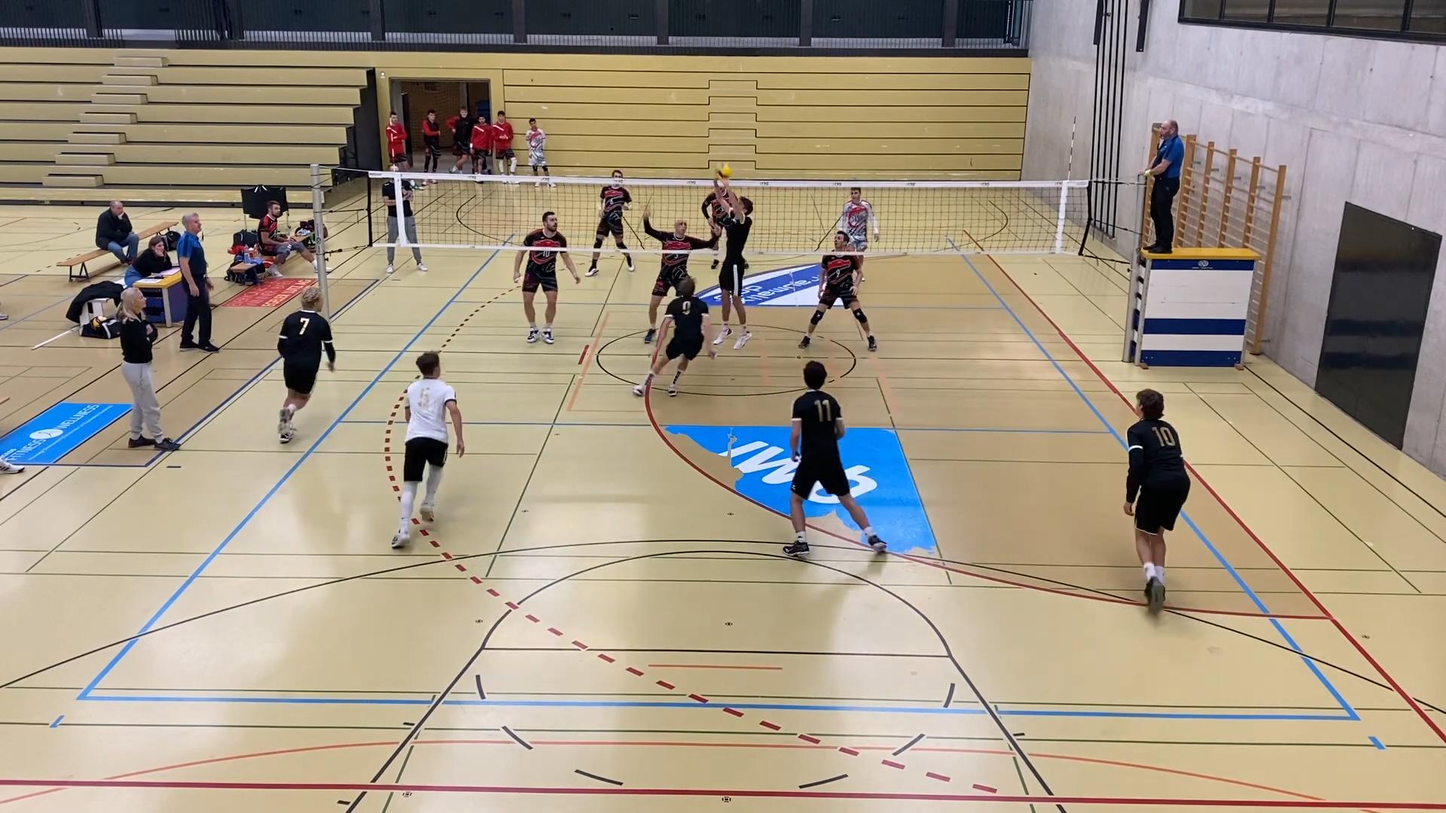alzata: (700, 171, 759, 349)
